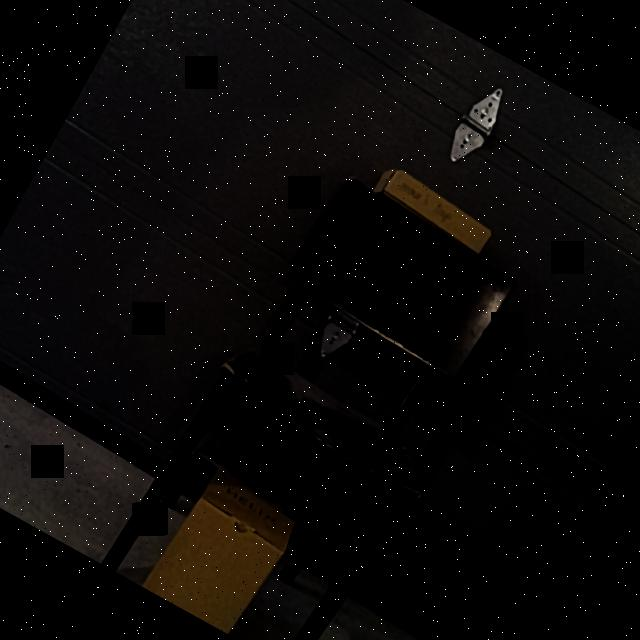box: (145, 492, 288, 638), (380, 173, 496, 254)
